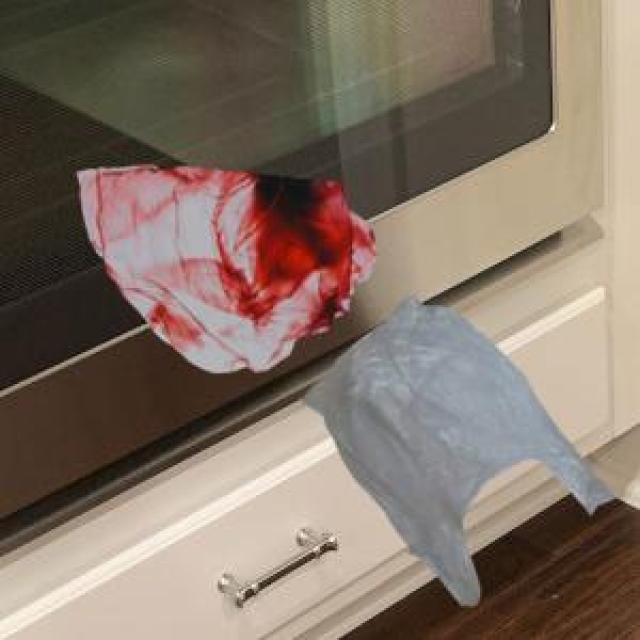waste: (308, 298, 612, 606), (79, 166, 375, 372)
